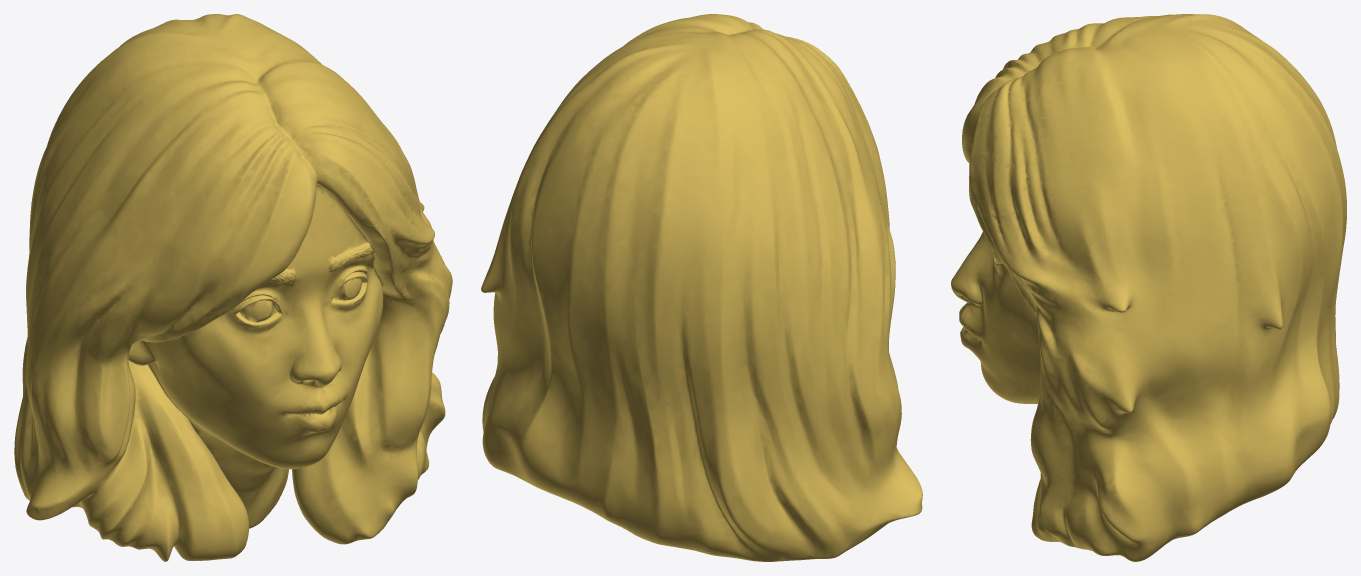
Rendered from Yuri_Head.glb.
3 renders of one model, left to right at view 1: azimuth 30°, elevation 25°; view 2: azimuth 150°, elevation 25°; view 3: azimuth 270°, elevation 25°, orthographic. The views are drawn at different scales.
Size of the model in its own units: 1.54 by 1.75 by 1.33.
